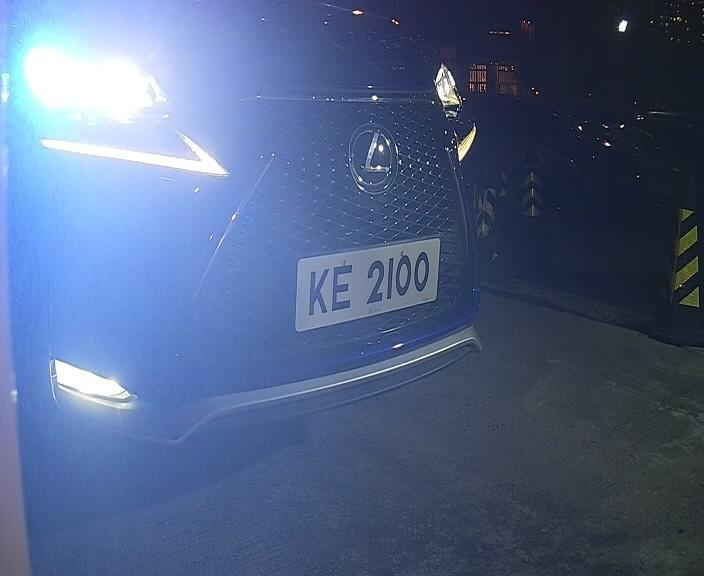privatecar: (9, 1, 511, 489)
